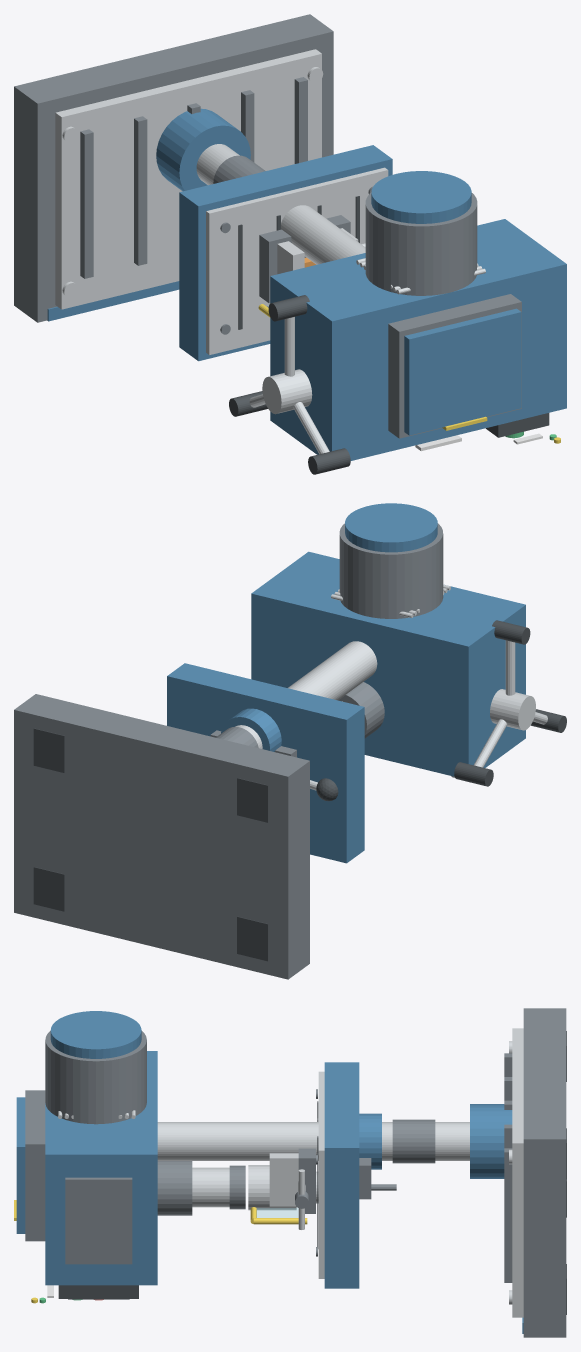
The model's file is furadeira_bancada_detalhada.glb.
3 views of the same model, one above another, from view 1: azimuth 30°, elevation 25°; view 2: azimuth 150°, elevation 25°; view 3: azimuth 270°, elevation 25° (orthographic). The views are drawn at different scales.
Visible parts, largest first — view 1: HeadCasting, BaseTopPlate, BaseCasting, BeltCoverLid, WorkTableTop, WorkTableCasting, MotorBody, MotorEndCap, ColumnFoot, BeltCoverBase, Column, BaseRib_1 (+13 smaller); view 2: BaseCasting, HeadCasting, WorkTableCasting, MotorBody, MotorEndCap, Column, FeedHub, TableClampCollar, MountFoot_0_0, MountFoot_0_1, MountFoot_1_0, MountFoot_1_1 (+4 smaller); view 3: BaseCasting, HeadCasting, WorkTableCasting, Column, MotorBody, HeadSidePanel, MotorEndCap, BaseTopPlate, BeltCoverBase, ColumnFoot, QuillHousing, ColumnPolishedSleeve (+12 smaller).
Part boxes in pixels (x1,y1,x2,y2): HeadCasting: [270, 219, 566, 460]; BaseTopPlate: [55, 49, 321, 309]; BaseCasting: [14, 14, 333, 322]; BeltCoverLid: [404, 308, 521, 435]; WorkTableTop: [206, 167, 388, 354]; WorkTableCasting: [179, 145, 392, 361]; MotorBody: [365, 192, 477, 295]; MotorEndCap: [371, 171, 471, 223]; ColumnFoot: [156, 108, 250, 191]; BeltCoverBase: [388, 294, 521, 438]; Column: [196, 144, 365, 264]; BaseRib_1: [134, 116, 147, 265]; BaseCasting: [14, 694, 309, 979]; HeadCasting: [251, 551, 525, 776]; WorkTableCasting: [167, 663, 364, 863]; MotorBody: [339, 523, 443, 618]; MotorEndCap: [345, 503, 437, 552]; Column: [235, 641, 377, 748]; FeedHub: [490, 689, 535, 730]; TableClampCollar: [221, 708, 281, 751]; MountFoot_0_0: [237, 916, 268, 961]; MountFoot_0_1: [237, 778, 268, 822]; MountFoot_1_0: [33, 867, 64, 911]; MountFoot_1_1: [33, 728, 64, 772]; BaseCasting: [523, 1008, 566, 1337]; HeadCasting: [45, 1051, 157, 1285]; WorkTableCasting: [324, 1062, 359, 1288]; Column: [157, 1122, 469, 1160]; MotorBody: [45, 1031, 146, 1124]; HeadSidePanel: [65, 1177, 132, 1264]; MotorEndCap: [50, 1011, 141, 1058]; BaseTopPlate: [512, 1028, 523, 1317]; BeltCoverBase: [25, 1090, 45, 1241]; ColumnFoot: [470, 1104, 512, 1178]; QuillHousing: [157, 1161, 192, 1215]; ColumnPolishedSleeve: [392, 1119, 435, 1163].
Bounding box in the file's own units: 1.16 × 1 × 2.07.
